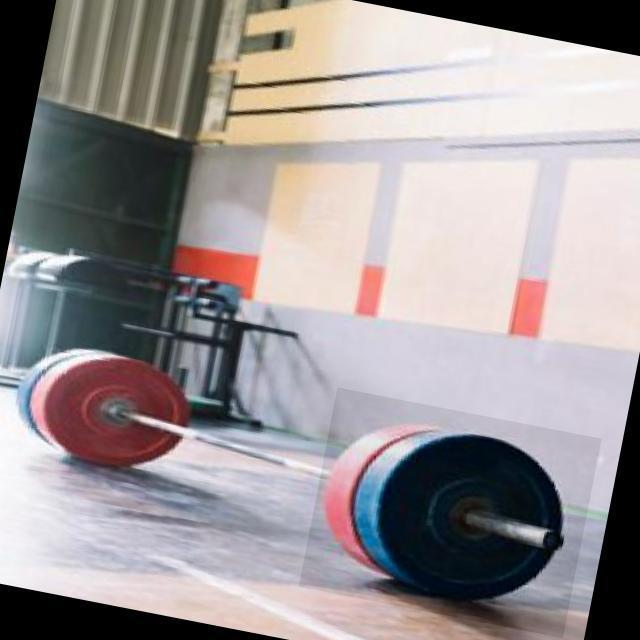barbell: (300, 389, 603, 640)
